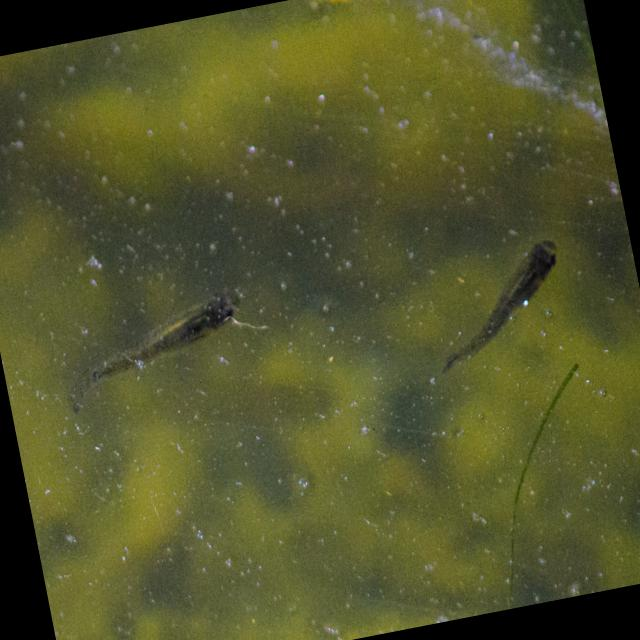Sivrisinek Baligi: (400, 224, 582, 394), (49, 278, 258, 426)
